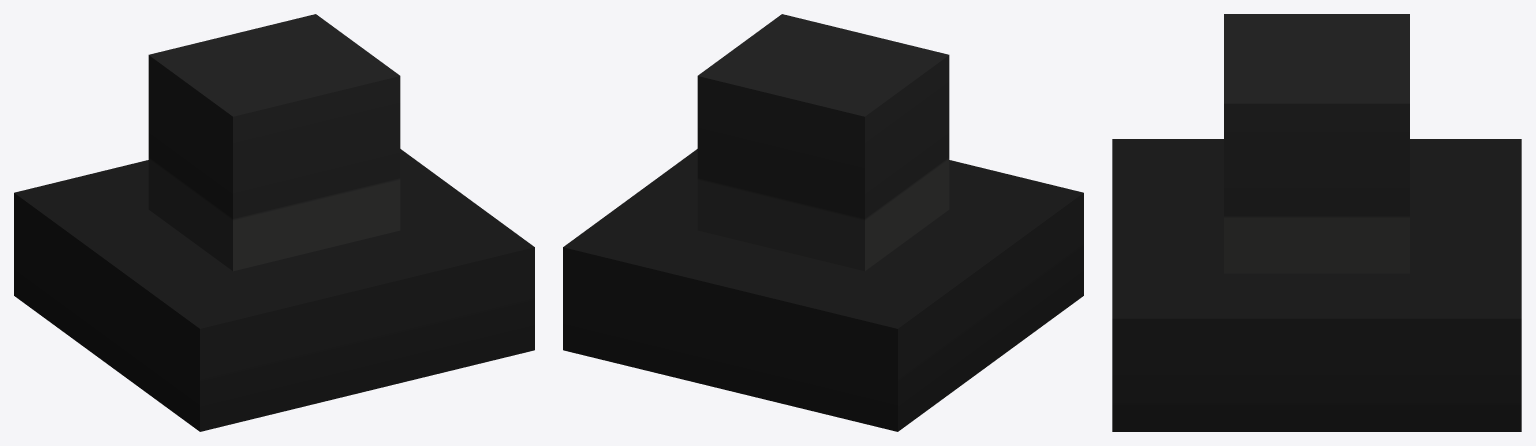
The model's file is Accessories005.fbx.
3 renders of one model, left to right at view 1: azimuth 30°, elevation 25°; view 2: azimuth 150°, elevation 25°; view 3: azimuth 270°, elevation 25°, orthographic. The views are drawn at different scales.
Visible parts, largest first — view 1: Accessories005; view 2: Accessories005; view 3: Accessories005.
Boxes of the visible parts, left/top/right/bottom form: Accessories005: left=14, top=14, right=534, bottom=431; Accessories005: left=563, top=14, right=1083, bottom=431; Accessories005: left=1112, top=14, right=1521, bottom=431.
Bounding box in the file's own units: 13.6 × 10 × 13.09.
